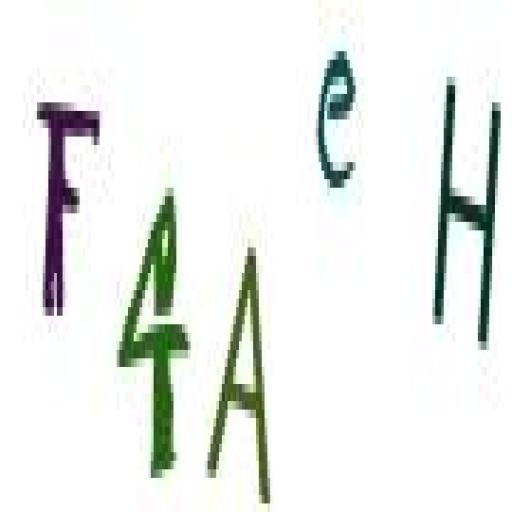4: (109, 174, 194, 479)
A: (202, 213, 276, 512)
F: (34, 85, 103, 325)
H: (428, 46, 504, 373)
e: (314, 35, 360, 218)
